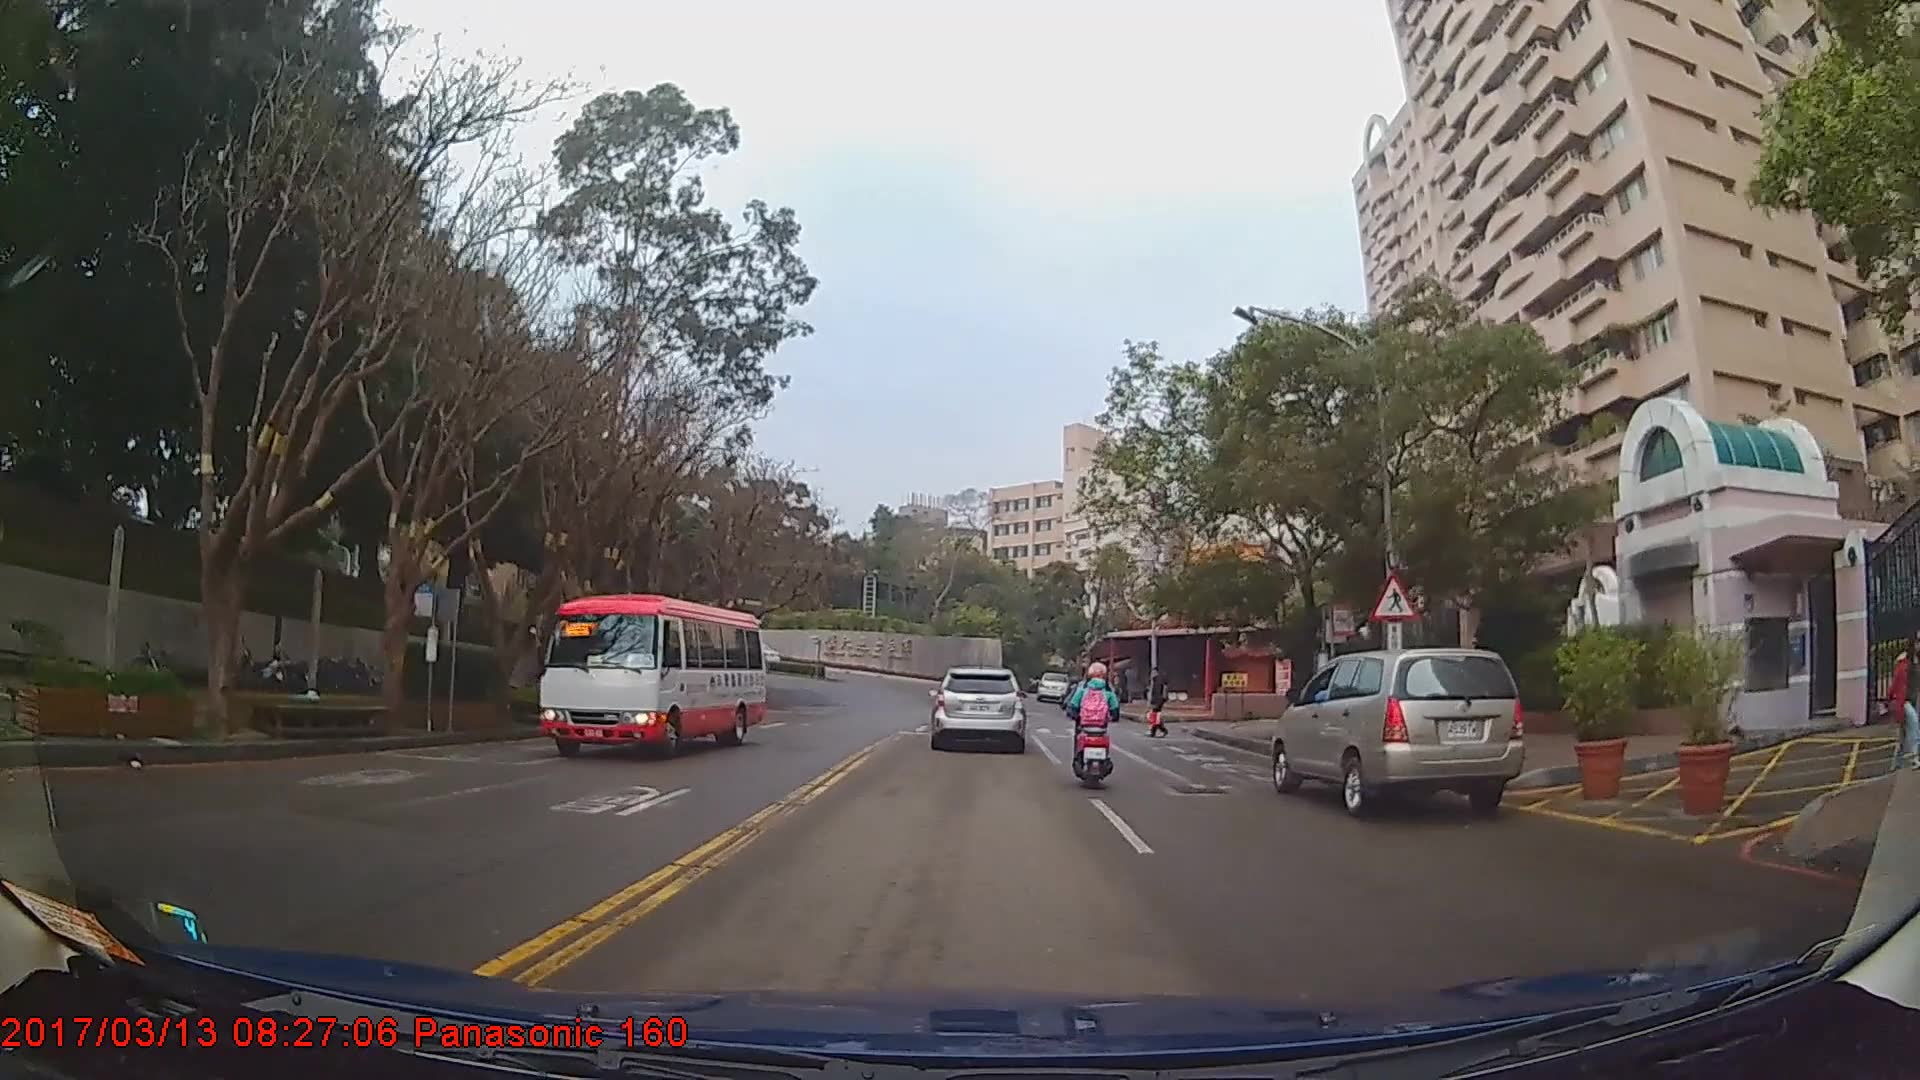pedestrian: (1146, 668, 1173, 745)
rider: (1067, 664, 1122, 794)
vehicle: (1272, 646, 1526, 817), (533, 595, 765, 760), (927, 667, 1027, 755), (1036, 673, 1070, 703)
